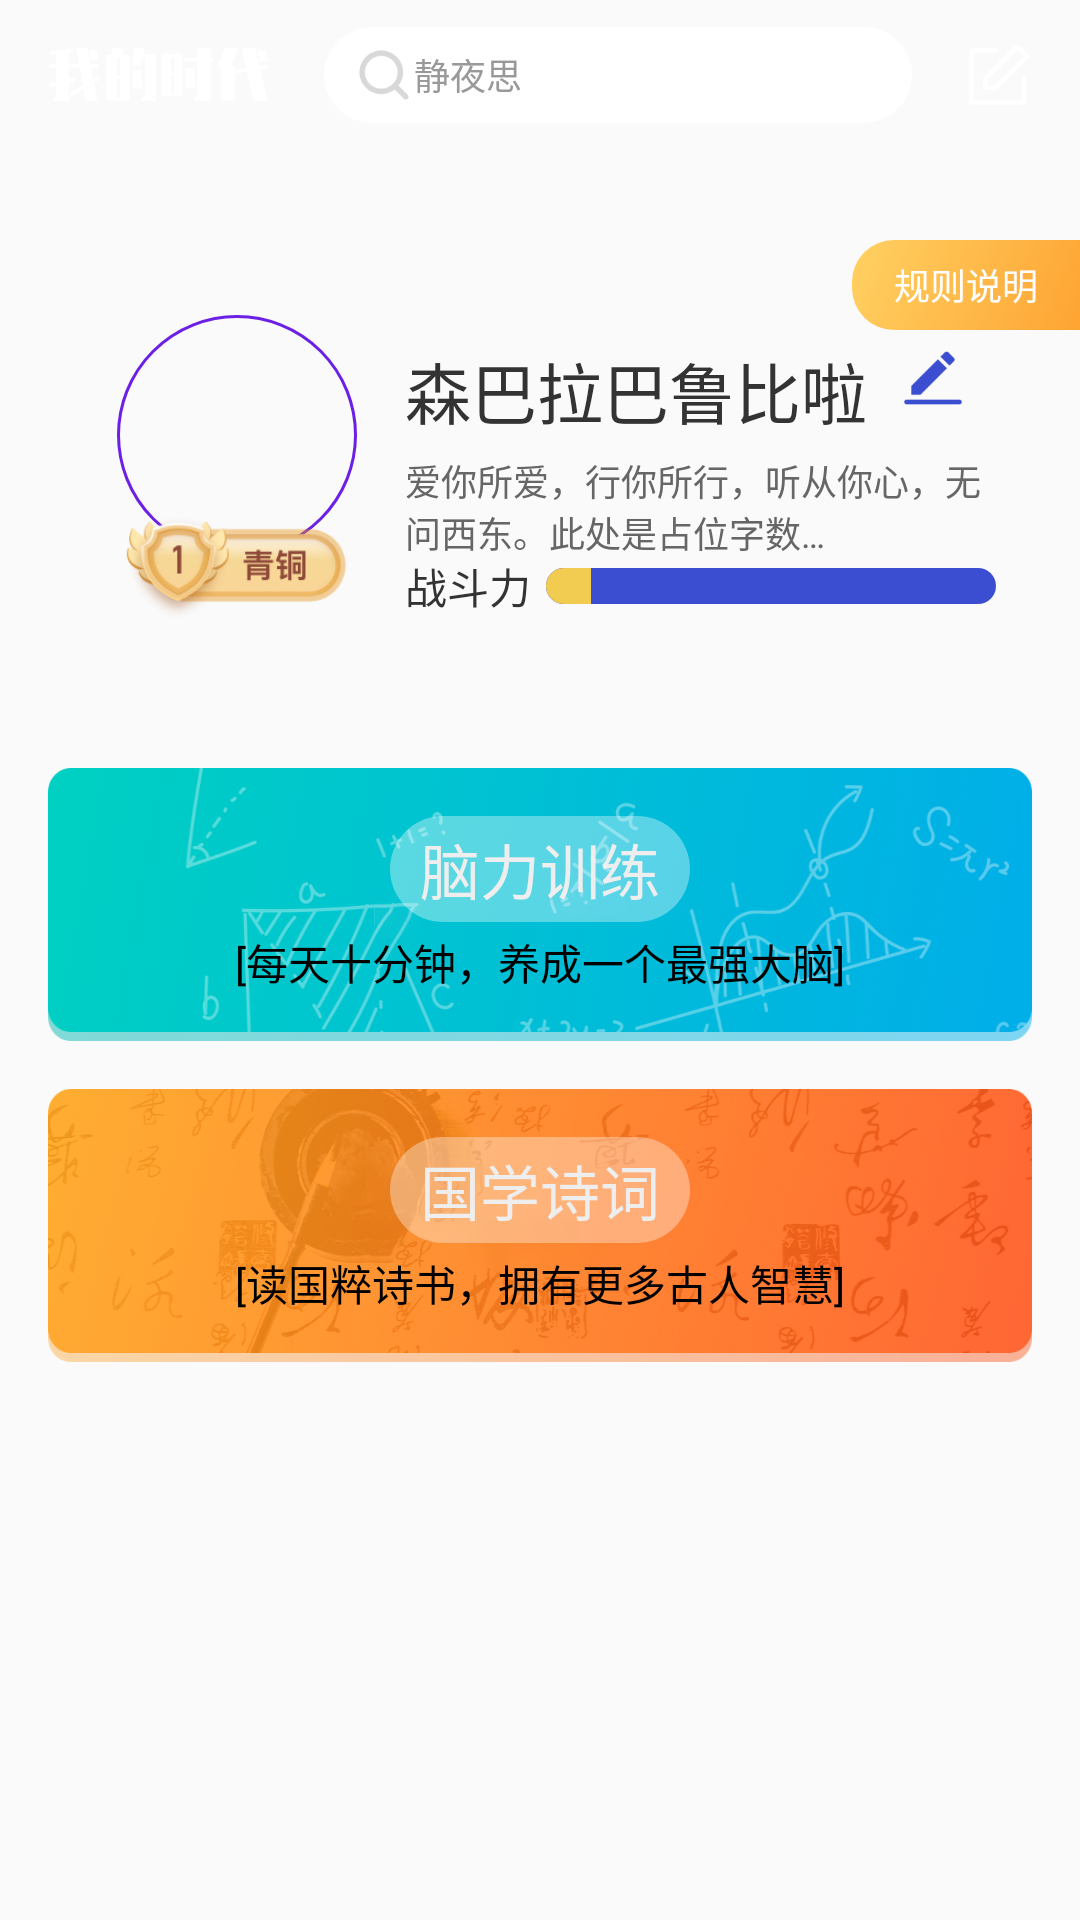

Locate icon controls on the screen. Image size 1080*1920, boxes as box=[x1, y1, x2, y2].
edit name: box=[904, 351, 962, 405]
level: box=[127, 495, 346, 610]
search: box=[360, 51, 408, 99]
